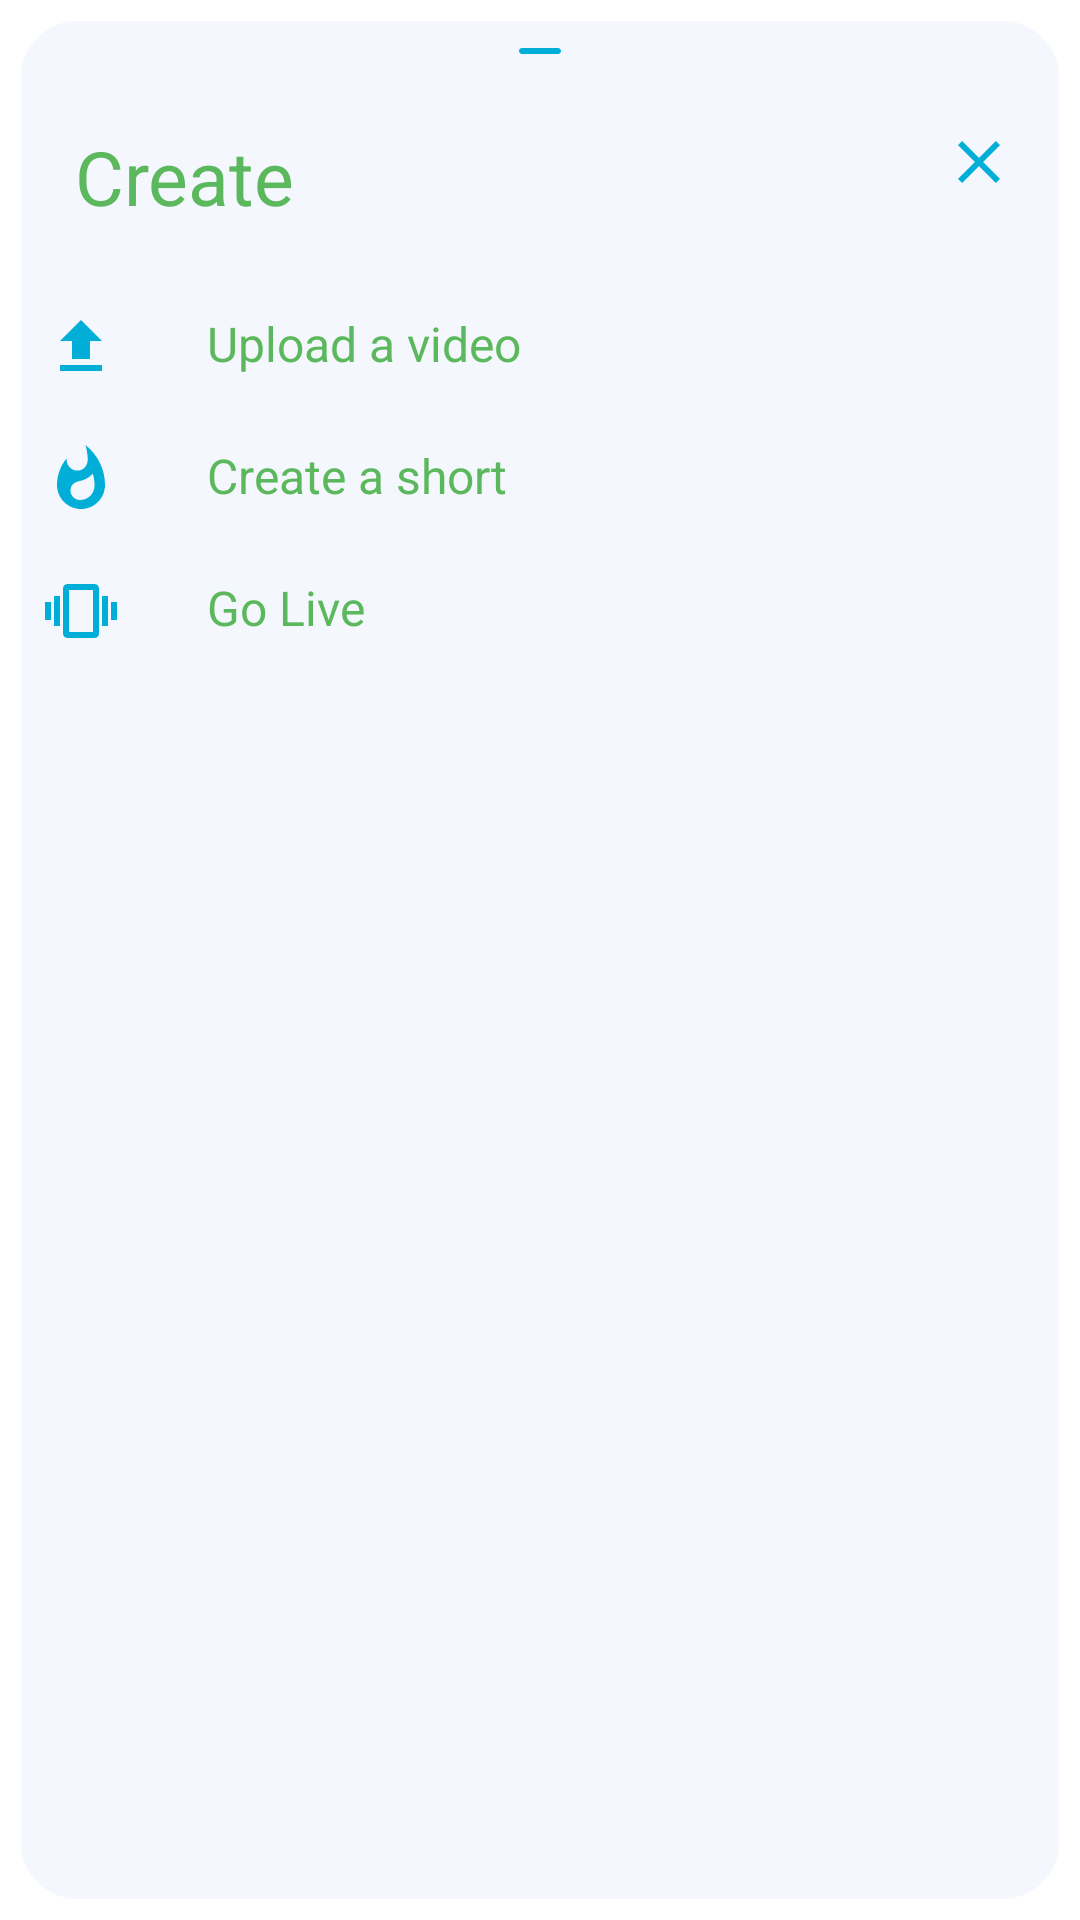

Screen size 1080 x 1920. Icon name, then its center in pixels as [x,y]:
clear: [979,162]
vibration: [81,611]
whatshot: [81,477]
